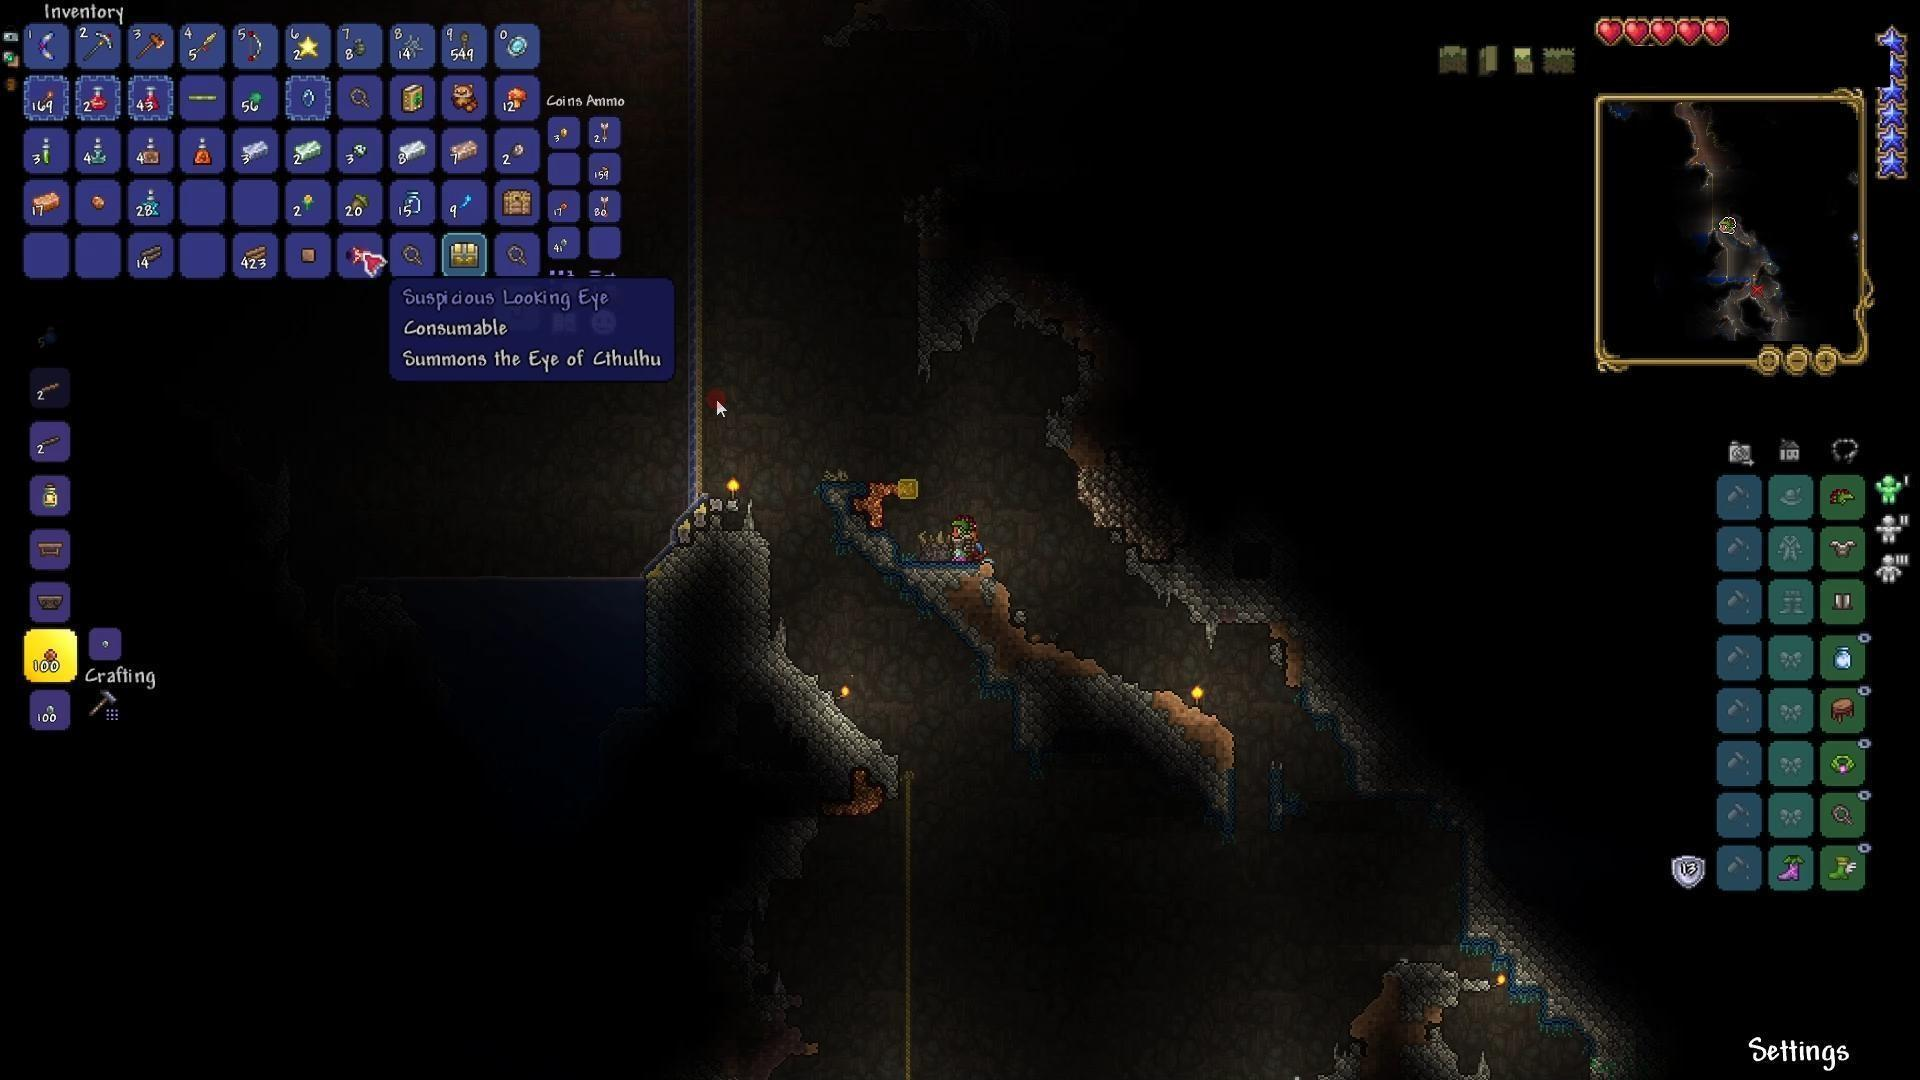heart: (1702, 17, 1733, 51), (1593, 16, 1626, 46), (1676, 15, 1704, 50), (1650, 16, 1676, 49), (1625, 15, 1651, 44)
stone: (1452, 833, 1630, 1063), (1104, 545, 1279, 640), (750, 658, 897, 771), (909, 233, 1026, 375), (657, 527, 770, 670), (1294, 688, 1382, 802), (1063, 655, 1154, 750), (855, 524, 902, 571), (1015, 690, 1042, 762)
